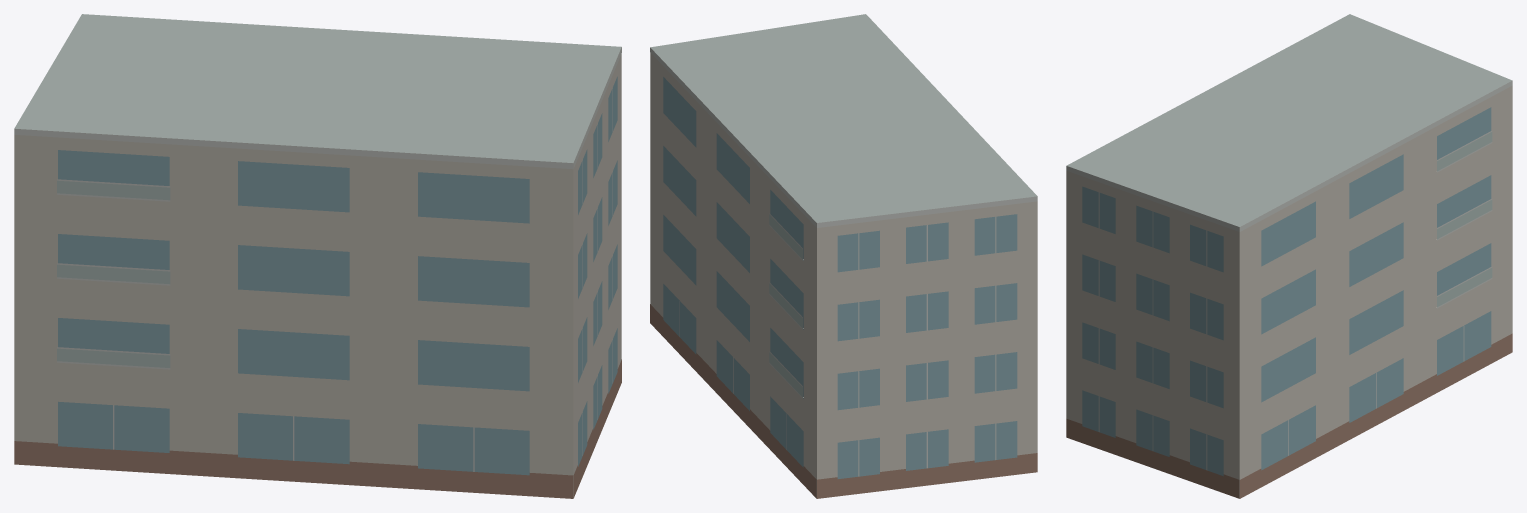
Rendered from survey-upis-32834340.glb.
The picture shows the model from 3 angles, left to right: view 1: azimuth 30°, elevation 25°; view 2: azimuth 150°, elevation 25°; view 3: azimuth 270°, elevation 25°; orthographic projection. The views are drawn at different scales.
Parts seen in each view (by area): view 1: survey-upis-32834340.tmp; view 2: survey-upis-32834340.tmp; view 3: survey-upis-32834340.tmp.
Boxes of the visible parts, bbox=[...] form: survey-upis-32834340.tmp: bbox=[14, 14, 621, 498]; survey-upis-32834340.tmp: bbox=[650, 14, 1037, 498]; survey-upis-32834340.tmp: bbox=[1066, 14, 1512, 498].
Bounding box in the file's own units: 22.72 × 13.5 × 20.1.
